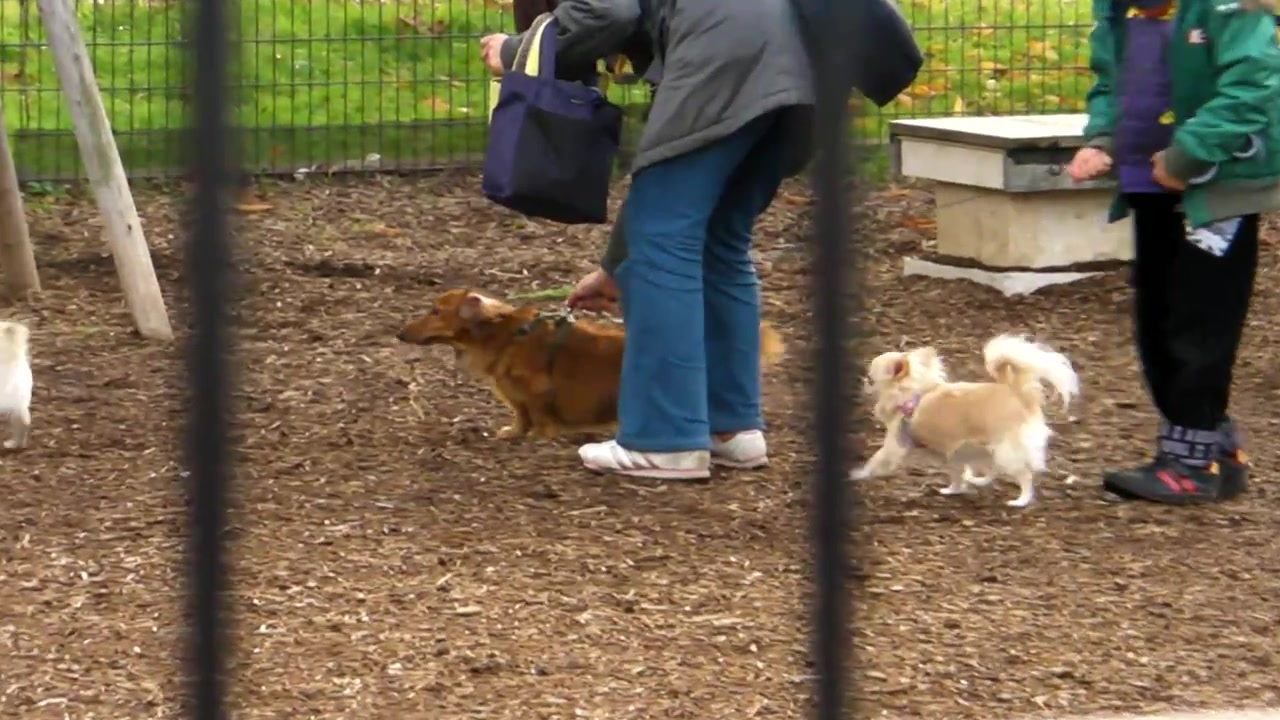dog: (851, 333, 1080, 508)
